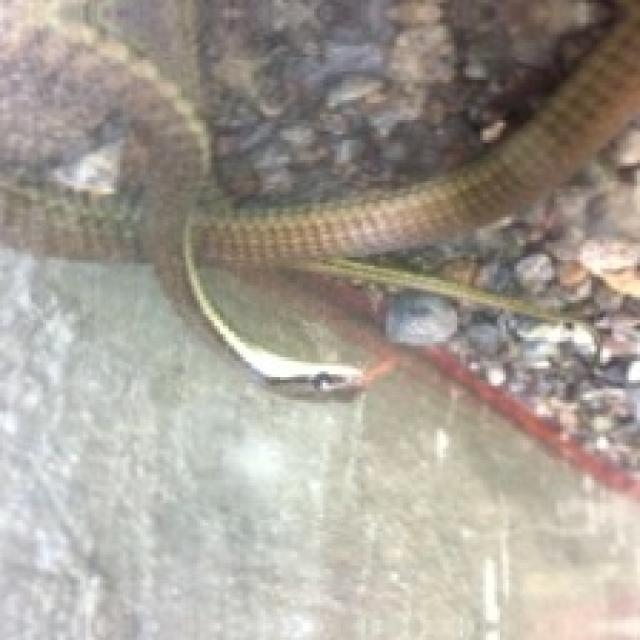philippine bronzeback treesnake: (0, 0, 640, 399), (292, 258, 565, 321)
